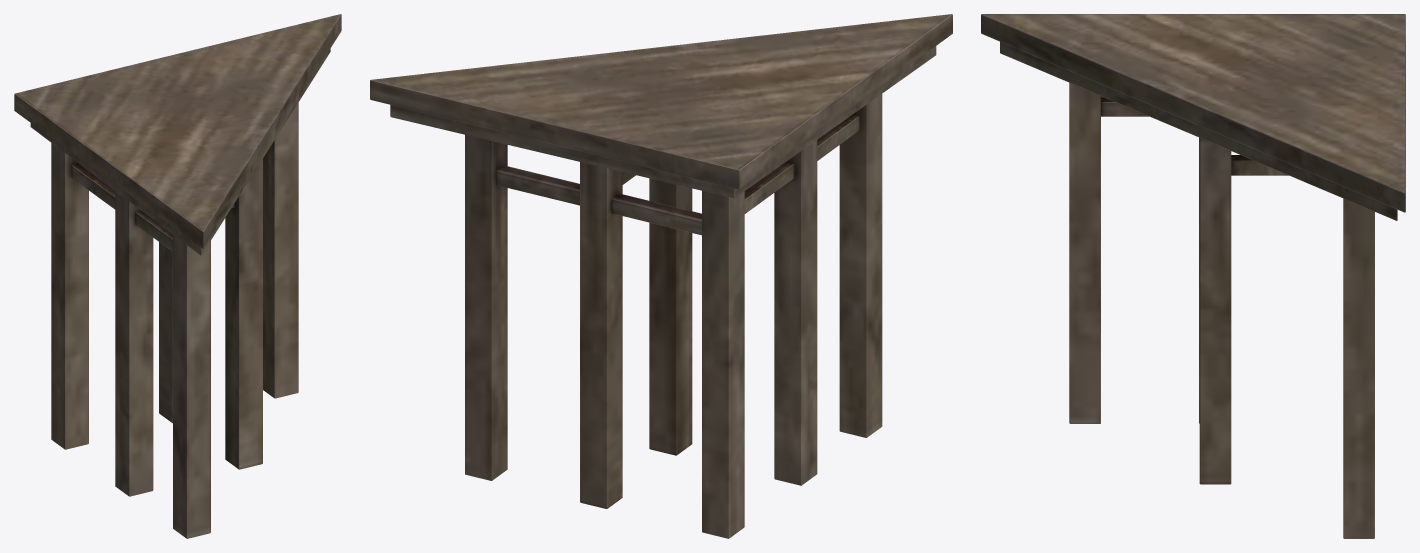
Rendered from SM_FloorTryangle_Wood_678043.glb.
3 renders of one model, left to right at view 1: azimuth 30°, elevation 25°; view 2: azimuth 150°, elevation 25°; view 3: azimuth 270°, elevation 25°, orthographic. The views are drawn at different scales.
Size of the model in its own units: 4.01 by 4 by 4.01.
1 material, 1 textured.
